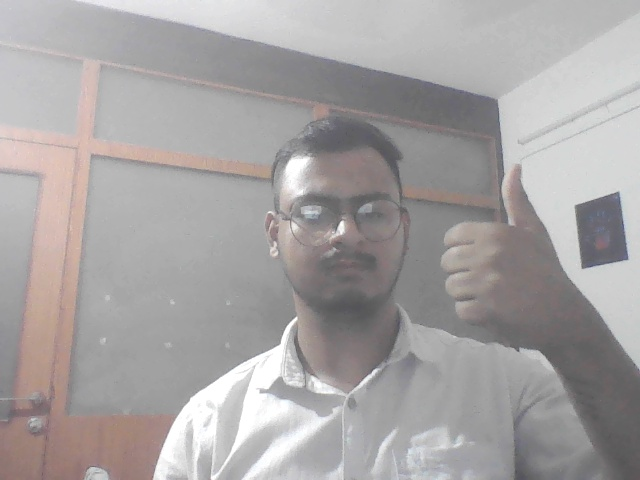Good: (430, 159, 559, 341)
